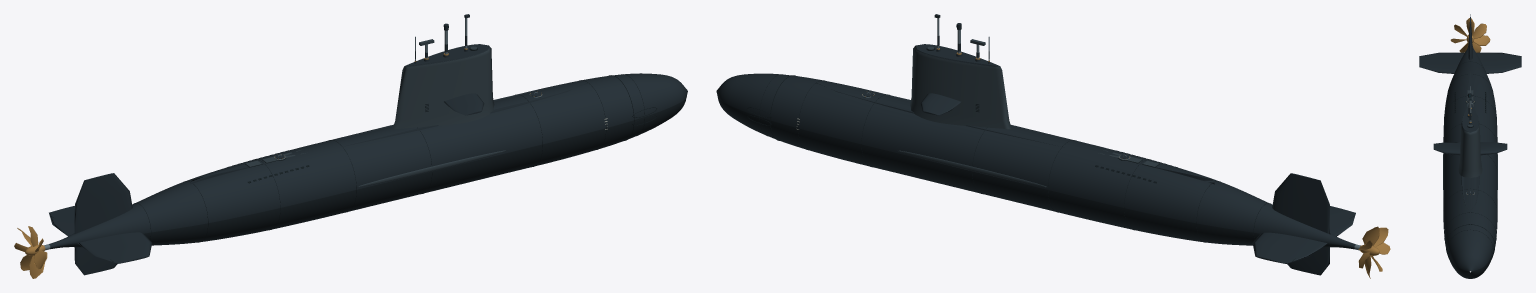
File: demo-umbra-submarine.glb
3 views of the same model, side by side, from view 1: azimuth 30°, elevation 25°; view 2: azimuth 150°, elevation 25°; view 3: azimuth 270°, elevation 25° (orthographic). The views are drawn at different scales.
Parts seen in each view (by area): view 1: Mesh_Static_Material_Batch_0, Mesh_Static_Material_Batch_1, Mesh_Static_Material_Batch_3, Mesh_Propeller_Assembly, Mesh_Static_Material_Batch_2; view 2: Mesh_Static_Material_Batch_0, Mesh_Static_Material_Batch_1, Mesh_Static_Material_Batch_3, Mesh_Propeller_Assembly, Mesh_Static_Material_Batch_2; view 3: Mesh_Static_Material_Batch_0, Mesh_Static_Material_Batch_3, Mesh_Propeller_Assembly, Mesh_Static_Material_Batch_2, Mesh_Static_Material_Batch_1, Mesh_Static_Material_Batch_5.
Boxes of the visible parts, x1,y1,x2,y2 form: Mesh_Static_Material_Batch_0: [49, 14, 687, 275]; Mesh_Static_Material_Batch_1: [50, 94, 687, 249]; Mesh_Static_Material_Batch_3: [245, 39, 506, 186]; Mesh_Propeller_Assembly: [14, 226, 47, 278]; Mesh_Static_Material_Batch_2: [49, 47, 656, 271]; Mesh_Static_Material_Batch_0: [716, 14, 1355, 275]; Mesh_Static_Material_Batch_1: [717, 95, 1354, 249]; Mesh_Static_Material_Batch_3: [898, 39, 1158, 187]; Mesh_Propeller_Assembly: [1358, 226, 1390, 278]; Mesh_Static_Material_Batch_2: [747, 47, 1354, 261]; Mesh_Static_Material_Batch_0: [1419, 14, 1521, 271]; Mesh_Static_Material_Batch_3: [1443, 90, 1497, 198]; Mesh_Propeller_Assembly: [1450, 18, 1490, 52]; Mesh_Static_Material_Batch_2: [1425, 55, 1516, 271]; Mesh_Static_Material_Batch_1: [1444, 240, 1496, 278]; Mesh_Static_Material_Batch_5: [1465, 86, 1475, 194].
Size of the model in its own units: 114 by 27.4 by 20.8.
